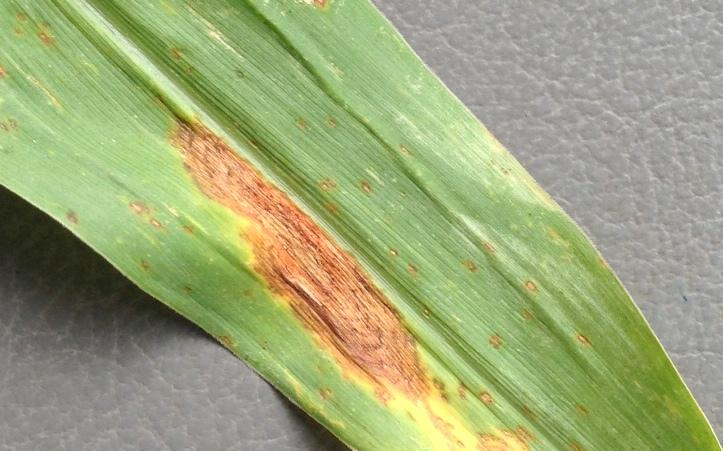Corn leaf blight: (3, 3, 643, 449)
